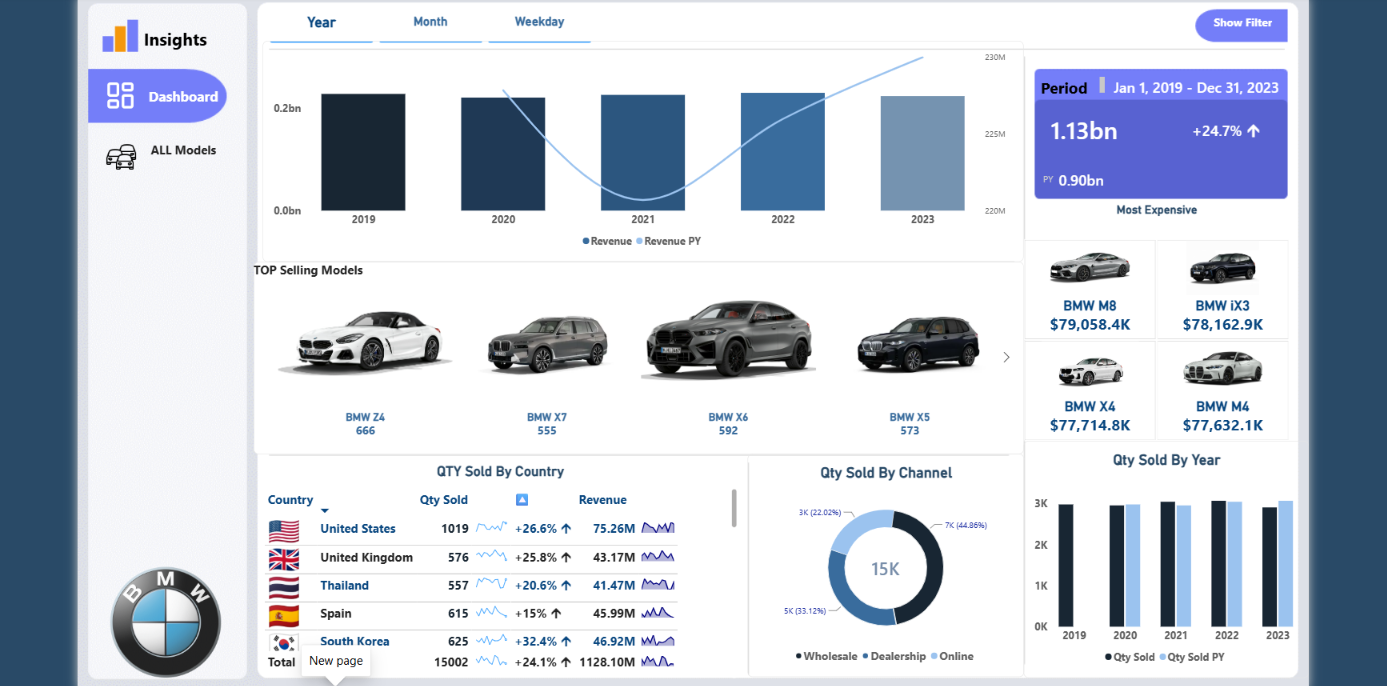

The dashboard page shown, as its layout file describes it:
{"tool":"powerbi","page":{"name":"Dashboard ","canvas":[1920,1080],"ordinal":0},"visuals":[{"type":"advancedSlicerVisual","fields":{"Values":["period slicer.period slicer"]},"box":[298.7,7.7,502.3,64.5],"z":0},{"type":"cardVisual","fields":{"Data":["All Measures.Revenue"]},"box":[1501.4,163.2,164.8,86.2],"z":1000},{"type":"textbox","box":[1487.4,274.8,51.7,23.3],"z":2000},{"type":"cardVisual","fields":{"Data":["All Measures.Revenue PY (B)"]},"box":[1513.8,261.8,109.9,47.1],"z":3000},{"type":"cardVisual","fields":{"Data":["All Measures.Revenue Variance % Arrow"]},"box":[1717,184.8,148.3,43.3],"z":4000},{"type":"cardVisual","fields":{"Data":["All Measures.Selected Period"]},"box":[1567.7,118.6,352.6,43.1],"z":5000},{"type":"advancedSlicerVisual","fields":{"Label":["All Measures.Qty Sold"],"Values":["DIM Model.Model"]},"box":[274.1,412.7,1201.2,300.3],"z":7000},{"type":"textbox","box":[274.1,412.7,208.3,31.7],"z":8000},{"type":"advancedSlicerVisual","title":"Most Expensive","fields":{"Values":["DIM Model.Model"]},"box":[1475.3,321.8,415.8,391.1],"z":9000},{"type":"clusteredColumnChart","title":"Qty Sold By Year","fields":{"Category":["Calendar.Year"],"Y":["All Measures.Qty Sold","All Measures.Qty Sold PY"]},"box":[1475.3,691.4,445,369.6],"z":11000},{"type":"donutChart","title":"Qty Sold By Channel","fields":{"Category":["DIM Channel.Channel"],"Y":["All Measures.Qty Sold"]},"box":[1044.1,713,431.2,348],"z":12000},{"type":"tableEx","title":"QTY Sold By Country","fields":{"Values":["DIM Country.Flag","DIM Country.Country","All Measures.Qty Sold","All Measures.Opaque Area Sparkline (no value) bright","All Measures.Qty Sold Variance % Arrow","All Measures.Revenue","All Measures.Revenue Sparkline"]},"box":[274.1,713,770,366.5],"z":13000},{"type":"textbox","box":[85.5,139.5,158.7,45.3],"z":15000},{"type":"image","box":[0,129.1,134.3,48.8],"z":16000},{"type":"textbox","box":[85.5,226.7,158.7,31.4],"z":17000},{"type":"image","box":[29.7,226.7,76.7,47.1],"z":18000},{"type":"actionButton","box":[29.7,111.6,214.5,73.3],"z":19000},{"type":"actionButton","box":[29.7,216.3,214.5,66.3],"z":20000},{"type":"actionButton","box":[1740.9,11.2,150.8,57.7],"z":22000},{"type":"image","box":[14,888.6,246.3,173],"z":23000},{"type":"actionButton","box":[81.9,39.8,139.6,52.1],"z":24000},{"type":"image","box":[35.4,24.9,61.4,67],"z":25000},{"type":"lineClusteredColumnComboChart","title":"Global Sales ","fields":{"Category":["Calendar.Year"],"Y":["All Measures.Revenue"],"Y2":["All Measures.Revenue PY"]},"box":[288.4,68.6,1186.3,344.5],"z":26000},{"type":"textbox","box":[1501.2,124.7,99.8,28.1],"z":26001}]}

Visuals, with their boxes on the page's 1920x1080 design canvas (x1, y1, x2, y2). These are canvas units, not pixel positions in the 1387x686 screenshot, which may show the page scaled, cropped or inside an application window:
advancedSlicerVisual - period slicer.period slicer: bbox=(299, 8, 801, 72)
cardVisual - All Measures.Revenue: bbox=(1501, 163, 1666, 249)
textbox: bbox=(1487, 275, 1539, 298)
cardVisual - All Measures.Revenue PY (B): bbox=(1514, 262, 1624, 309)
cardVisual - All Measures.Revenue Variance % Arrow: bbox=(1717, 185, 1865, 228)
cardVisual - All Measures.Selected Period: bbox=(1568, 119, 1920, 162)
advancedSlicerVisual - All Measures.Qty Sold x DIM Model.Model: bbox=(274, 413, 1475, 713)
textbox: bbox=(274, 413, 482, 444)
"Most Expensive" advancedSlicerVisual: bbox=(1475, 322, 1891, 713)
"Qty Sold By Year" clusteredColumnChart: bbox=(1475, 691, 1920, 1061)
"Qty Sold By Channel" donutChart: bbox=(1044, 713, 1475, 1061)
"QTY Sold By Country" tableEx: bbox=(274, 713, 1044, 1080)
textbox: bbox=(86, 140, 244, 185)
image: bbox=(0, 129, 134, 178)
textbox: bbox=(86, 227, 244, 258)
image: bbox=(30, 227, 106, 274)
actionButton: bbox=(30, 112, 244, 185)
actionButton: bbox=(30, 216, 244, 283)
actionButton: bbox=(1741, 11, 1892, 69)
image: bbox=(14, 889, 260, 1062)
actionButton: bbox=(82, 40, 222, 92)
image: bbox=(35, 25, 97, 92)
"Global Sales " lineClusteredColumnComboChart: bbox=(288, 69, 1475, 413)
textbox: bbox=(1501, 125, 1601, 153)
